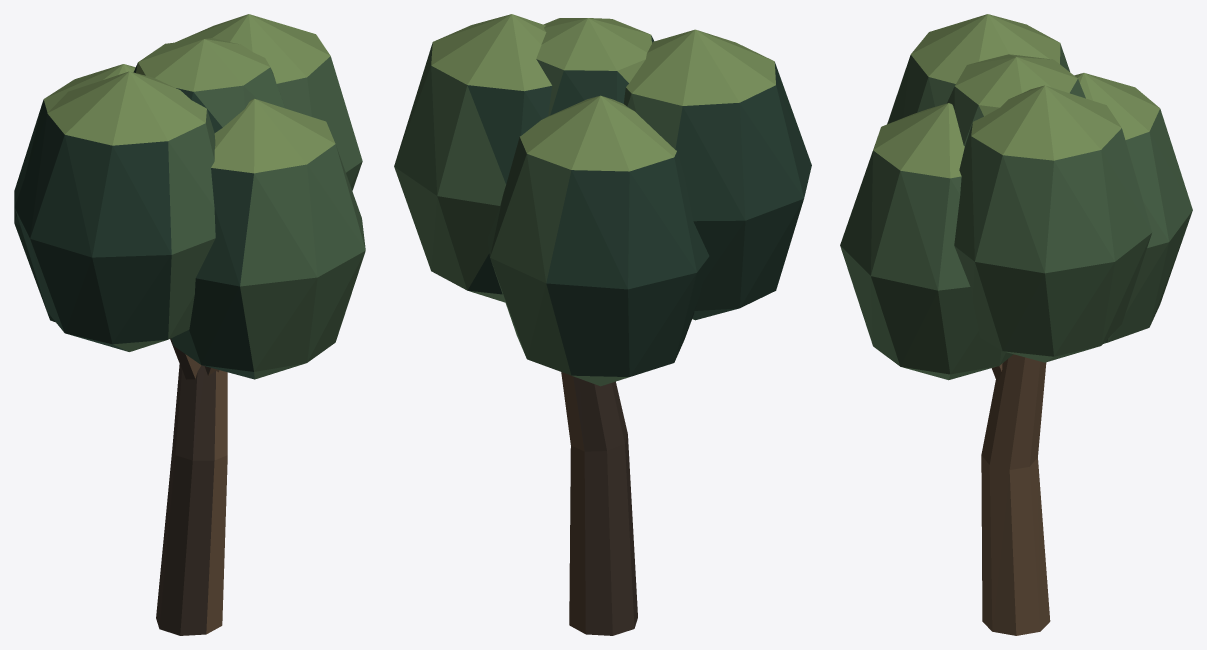
File: TW_TREE_ROUND_SMALL_B_LOD0.glb
3 renders of one model, left to right at view 1: azimuth 30°, elevation 25°; view 2: azimuth 150°, elevation 25°; view 3: azimuth 270°, elevation 25°, orthographic. The views are drawn at different scales.
Parts seen in each view (by area): view 1: TW_TREE_ROUND_SMALL_B_LOD0; view 2: TW_TREE_ROUND_SMALL_B_LOD0; view 3: TW_TREE_ROUND_SMALL_B_LOD0.
Boxes of the visible parts, x1,y1,x2,y2 form: TW_TREE_ROUND_SMALL_B_LOD0: [14, 14, 365, 635]; TW_TREE_ROUND_SMALL_B_LOD0: [394, 14, 811, 635]; TW_TREE_ROUND_SMALL_B_LOD0: [840, 14, 1192, 635].
Bounding box in the file's own units: 2.1 × 3.3 × 1.85.
1 material, 1 textured.
